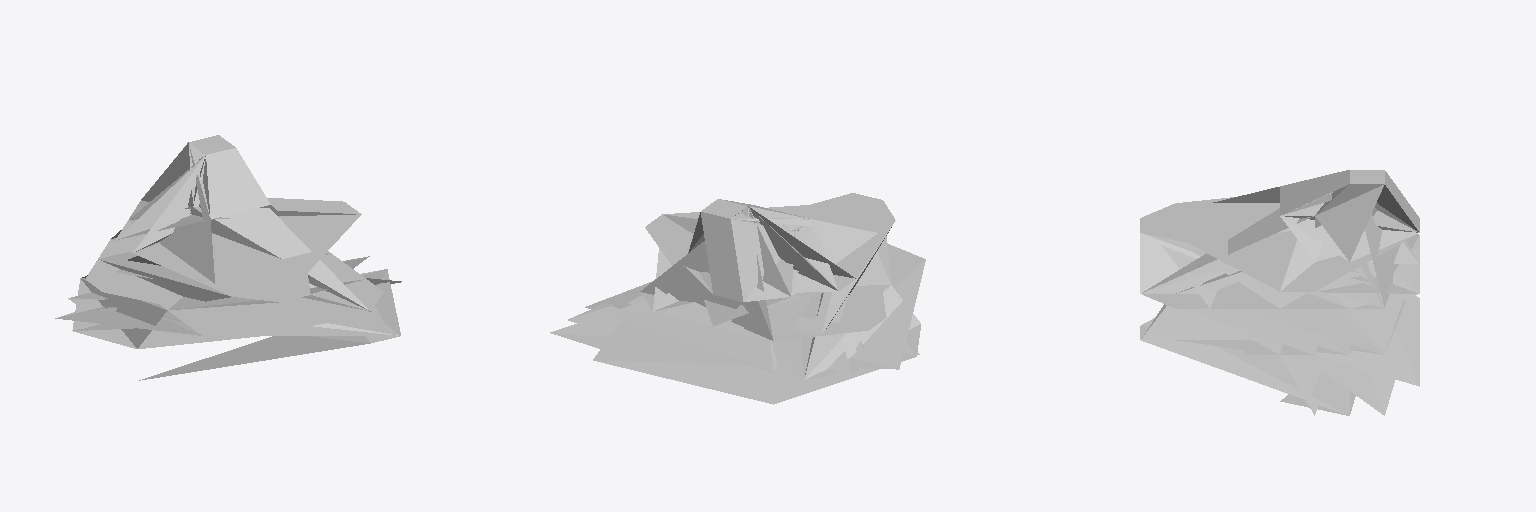
The model's file is Sleep Pod Victim 1.obj.
The picture shows the model from 3 angles: view 1: azimuth 30°, elevation 25°; view 2: azimuth 150°, elevation 25°; view 3: azimuth 270°, elevation 25°; orthographic projection.
Size of the model in its own units: 11 by 5 by 8.